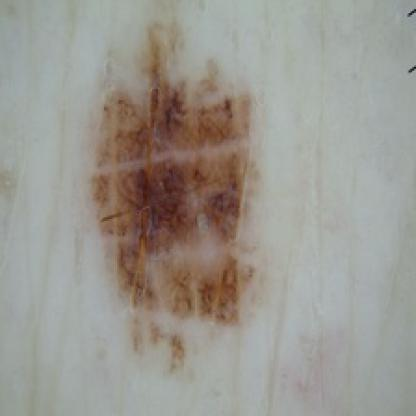malignant: (87, 50, 286, 336)
